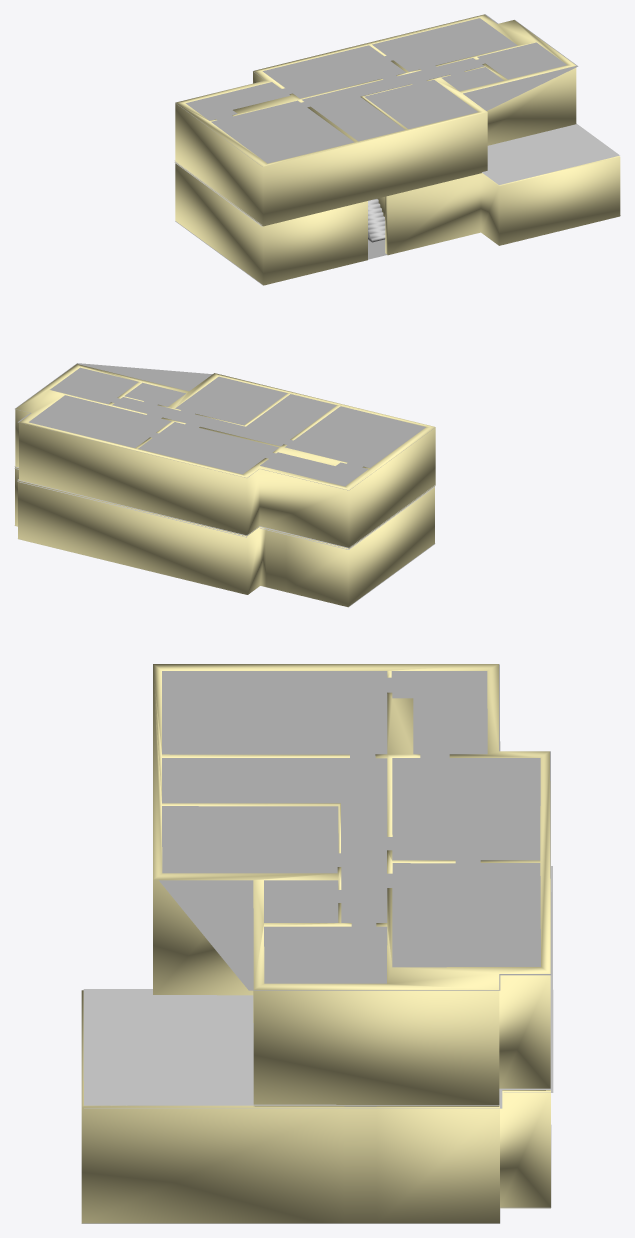
File: house2.fbx
3 renders of one model, top to bottom at view 1: azimuth 30°, elevation 25°; view 2: azimuth 150°, elevation 25°; view 3: azimuth 270°, elevation 25°, orthographic. The views are drawn at different scales.
Parts seen in each view (by area): view 1: Line008, Line009, Line006, StraightStair002; view 2: Line008, Line009, Line006, Line006_001; view 3: Line008, Line009, Line006.
Part boxes in pixels (box(x1,y1,x2,y2)): Line008: box(175, 14, 620, 285); Line009: box(175, 14, 578, 166); Line006: box(174, 123, 619, 224); StraightStair002: box(368, 199, 385, 242); Line008: box(15, 364, 435, 607); Line009: box(15, 363, 433, 490); Line006: box(14, 466, 434, 548); Line006_001: box(14, 468, 434, 549); Line008: box(81, 664, 550, 1223); Line009: box(159, 664, 551, 990); Line006: box(83, 866, 553, 1105).
Size of the model in its own units: 294 by 68.54 by 110.
3 materials, 1 textured.
